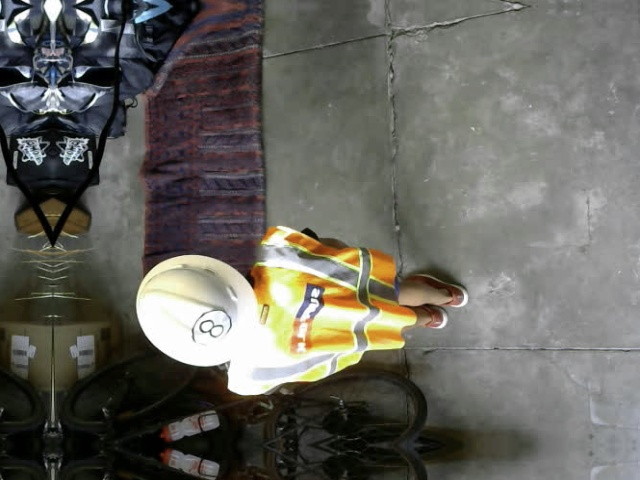eight: (191, 309, 231, 348)
